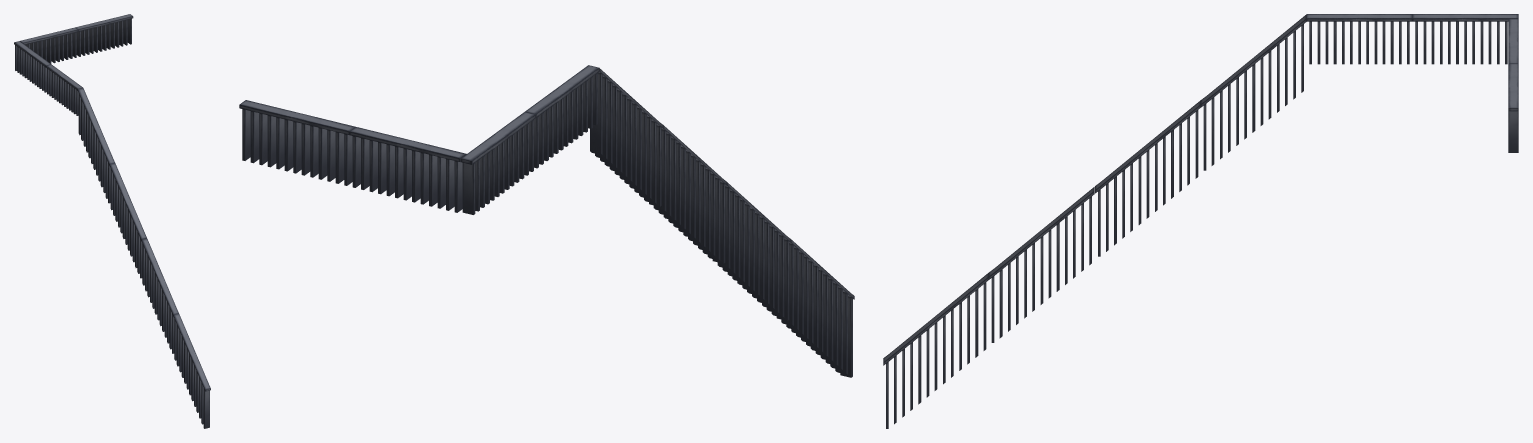
File: StairFence.fbx
3 views of the same model, side by side, from view 1: azimuth 30°, elevation 25°; view 2: azimuth 150°, elevation 25°; view 3: azimuth 270°, elevation 25° (orthographic). The views are drawn at different scales.
Parts seen in each view (by area): view 1: pasted__pasted__WallOverWorld14 (×2), pasted__pasted__WallOverWorld13 (×2), pasted__pasted__WallOverWorld20, pasted__pasted__WallOverWorld15, pasted__pasted__WallOverWorld19, pasted__pasted__WallOverWorld16; view 2: pasted__pasted__WallOverWorld13 (×2), pasted__pasted__WallOverWorld14 (×2), pasted__pasted__WallOverWorld15, pasted__pasted__WallOverWorld16, pasted__pasted__WallOverWorld19, pasted__pasted__WallOverWorld20; view 3: pasted__pasted__WallOverWorld20, pasted__pasted__WallOverWorld15, pasted__pasted__WallOverWorld19, pasted__pasted__WallOverWorld14 (×2), pasted__pasted__WallOverWorld16, pasted__pasted__WallOverWorld13.
Boxes of the visible parts, x1=… form: pasted__pasted__WallOverWorld14 (×2): x1=46, y1=14, x2=133, y2=115; pasted__pasted__WallOverWorld13 (×2): x1=14, y1=27, x2=78, y2=92; pasted__pasted__WallOverWorld20: x1=173, y1=313, x2=210, y2=428; pasted__pasted__WallOverWorld15: x1=78, y1=88, x2=114, y2=203; pasted__pasted__WallOverWorld19: x1=141, y1=238, x2=178, y2=353; pasted__pasted__WallOverWorld16: x1=109, y1=163, x2=146, y2=278; pasted__pasted__WallOverWorld13 (×2): x1=349, y1=112, x2=535, y2=214; pasted__pasted__WallOverWorld14 (×2): x1=239, y1=65, x2=599, y2=185; pasted__pasted__WallOverWorld15: x1=590, y1=68, x2=663, y2=206; pasted__pasted__WallOverWorld16: x1=653, y1=125, x2=726, y2=263; pasted__pasted__WallOverWorld19: x1=717, y1=182, x2=790, y2=320; pasted__pasted__WallOverWorld20: x1=781, y1=239, x2=854, y2=377; pasted__pasted__WallOverWorld20: x1=883, y1=272, x2=988, y2=428; pasted__pasted__WallOverWorld15: x1=1201, y1=14, x2=1306, y2=170; pasted__pasted__WallOverWorld19: x1=989, y1=187, x2=1094, y2=342; pasted__pasted__WallOverWorld14 (×2): x1=1306, y1=14, x2=1518, y2=152; pasted__pasted__WallOverWorld16: x1=1095, y1=100, x2=1200, y2=256; pasted__pasted__WallOverWorld13: x1=1412, y1=14, x2=1518, y2=64.
Size of the model in its own units: 248 by 504 by 707.
